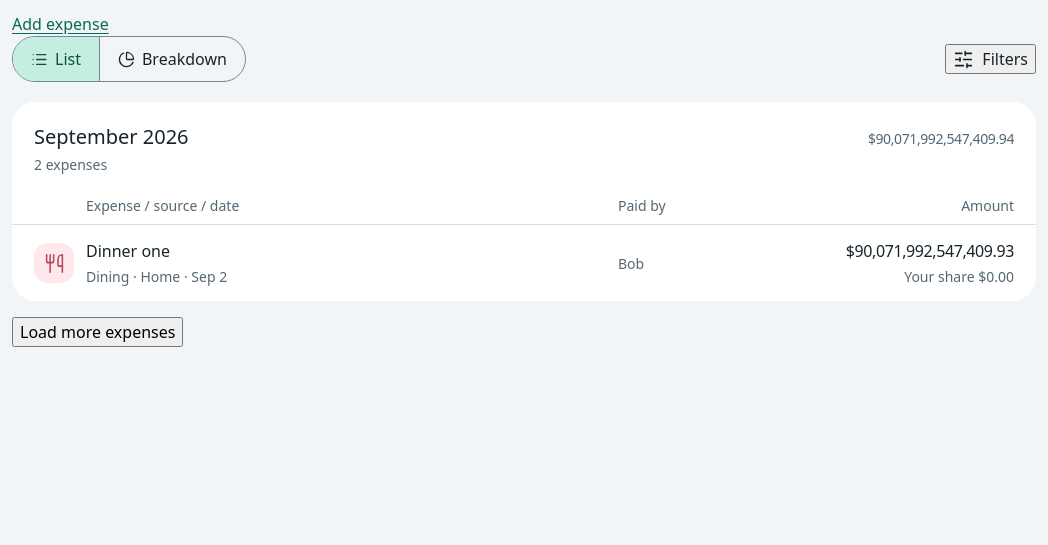
Scenario: uses full server totals and month subtotals while accumulating pages, including exact large money and zero shares
The image size is (1048, 545).
Click the button "Load more expenses" at (98, 332), box [12,317,183,347]
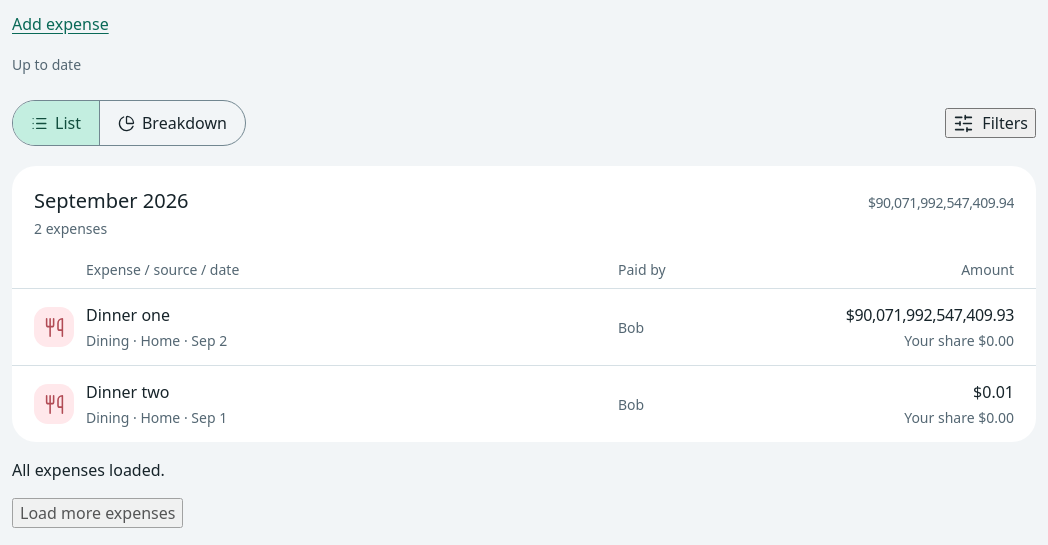
Expected: the text "Dinner one" is shown, [86,304,170,326]
Expected: the number of list items is 2, [12,288,1036,365]; [12,365,1036,442]
Expected: the text "Dinner two" is shown, [86,381,169,403]
